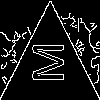M: (24, 42, 64, 83)
